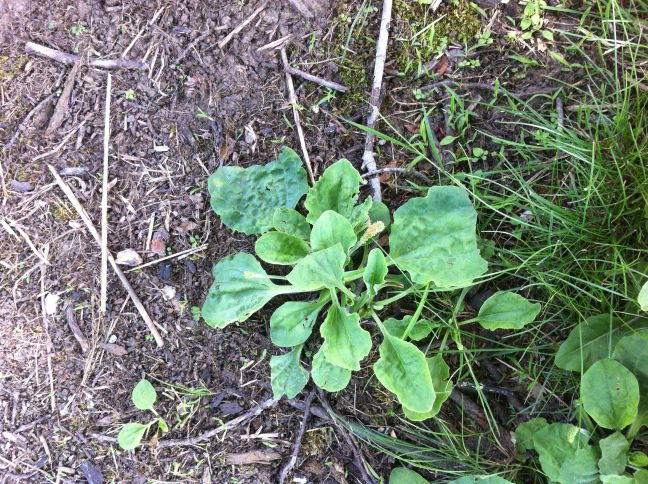weed1: (198, 147, 540, 420), (528, 309, 643, 484)
